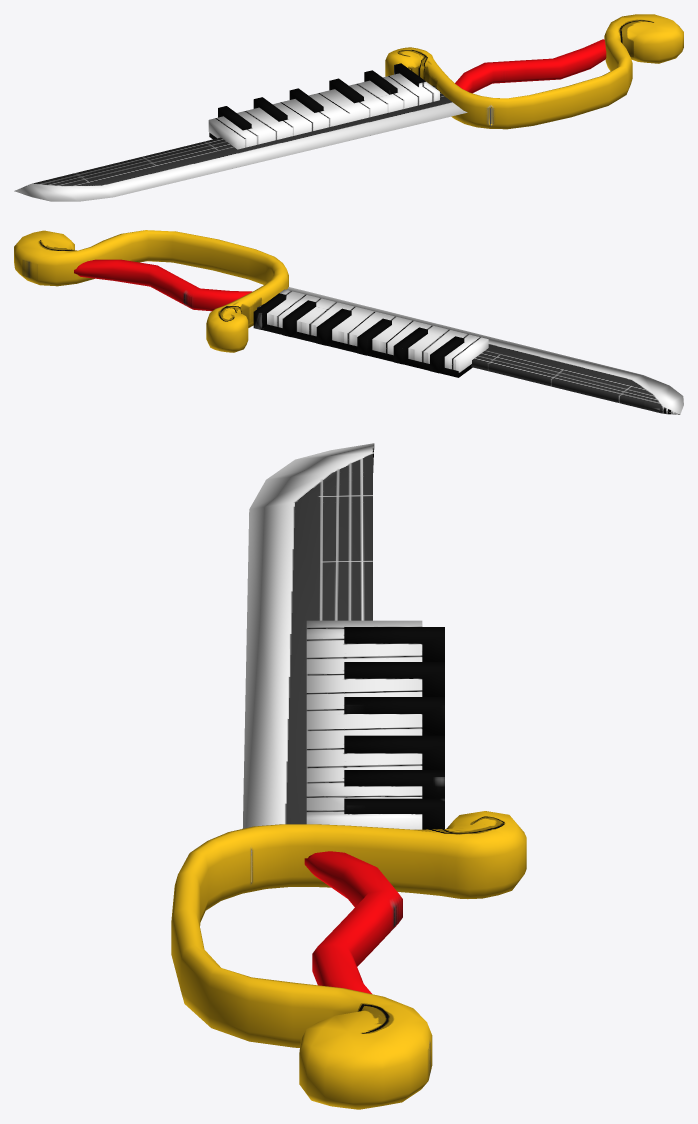
File: sword.fbx
3 views of the same model, one above another, from view 1: azimuth 30°, elevation 25°; view 2: azimuth 150°, elevation 25°; view 3: azimuth 270°, elevation 25° (orthographic). The views are drawn at different scales.
Parts seen in each view (by area): view 1: obj1; view 2: obj1; view 3: obj1.
Boxes of the visible parts, left/top/right/bottom form: obj1: left=14, top=14, right=683, bottom=201; obj1: left=14, top=230, right=683, bottom=414; obj1: left=171, top=443, right=526, bottom=1109.
Bounding box in the file's own units: 905 × 41.44 × 211.
1 material, 1 textured.
